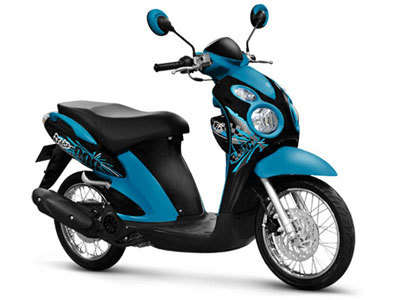motorcycle: (31, 37, 353, 290)
